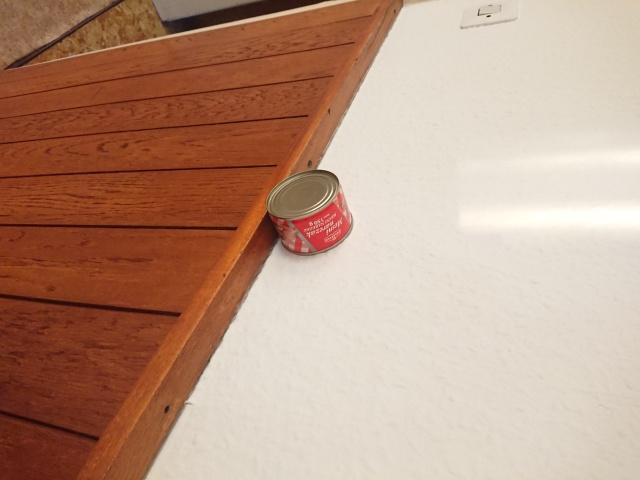Podravka Luncheon Meat 150g: (264, 168, 356, 258)
